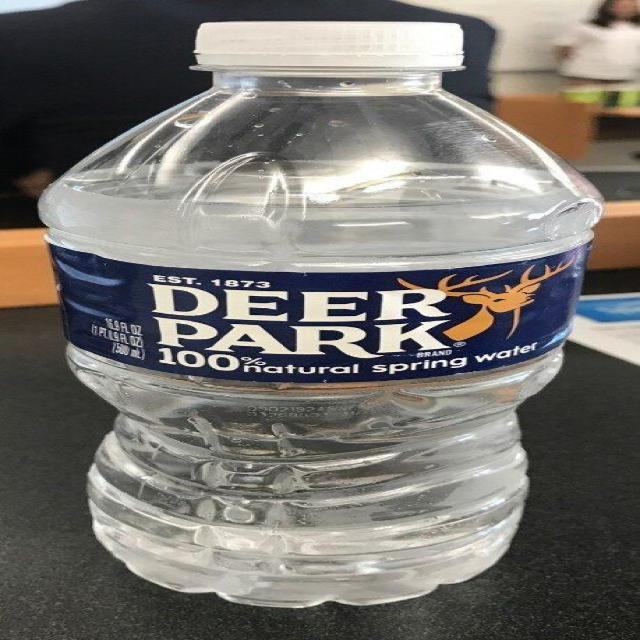bottle: (34, 11, 607, 622)
